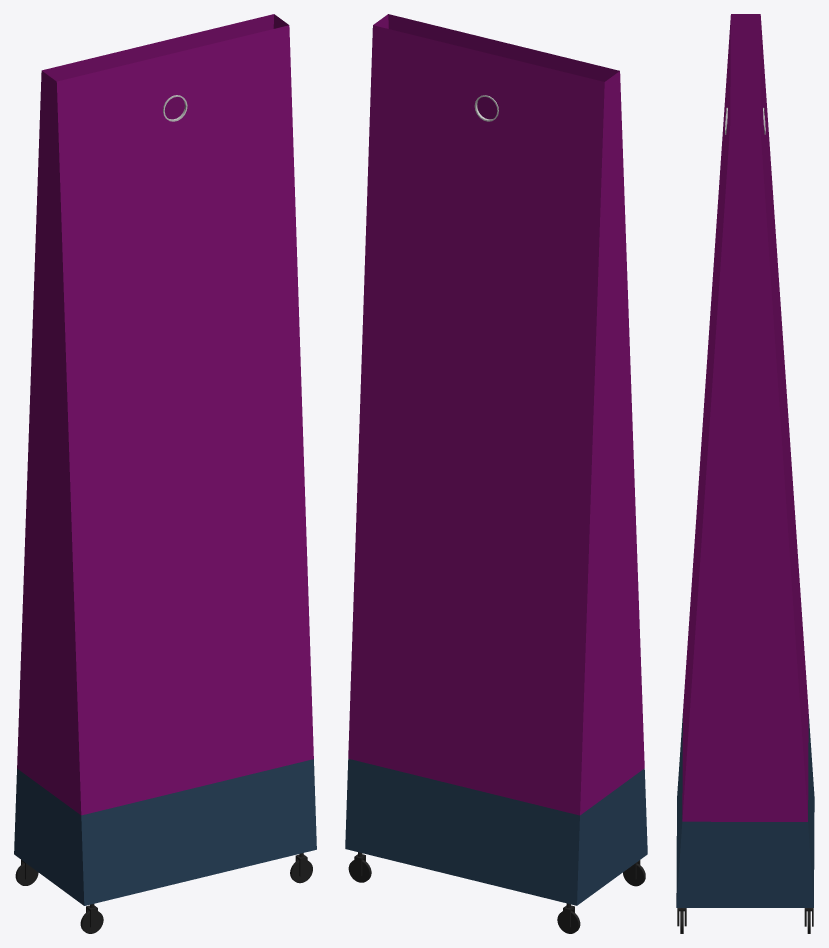
Rendered from IKEA-Marek_Floor_Lamp_02-3D.obj.
3 renders of one model, left to right at view 1: azimuth 30°, elevation 25°; view 2: azimuth 150°, elevation 25°; view 3: azimuth 270°, elevation 25°, orthographic. The views are drawn at different scales.
Visible parts, largest first — view 1: Cylinder01; view 2: Cylinder01; view 3: Cylinder01.
Boxes of the visible parts, left/top/right/bottom form: Cylinder01: left=14, top=14, right=316, bottom=933; Cylinder01: left=345, top=14, right=647, bottom=933; Cylinder01: left=676, top=14, right=814, bottom=933.
Bounding box in the file's own units: 1184 × 4066 × 625.
